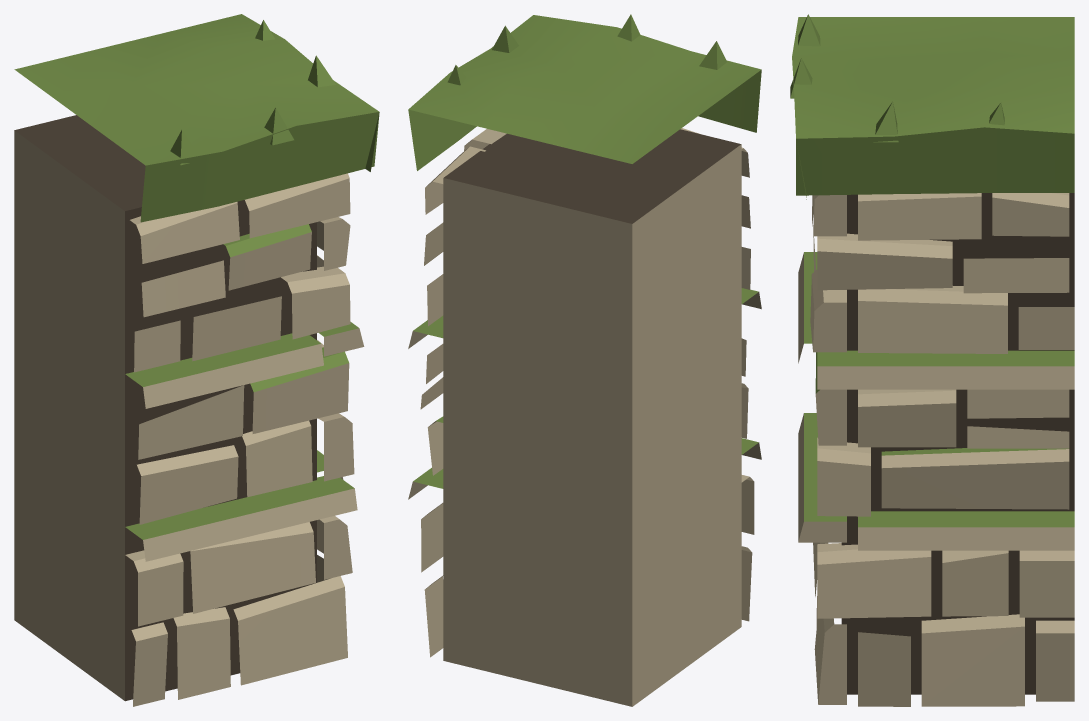
The model's file is grove-outer.glb.
The picture shows the model from 3 angles, left to right: view 1: azimuth 30°, elevation 25°; view 2: azimuth 150°, elevation 25°; view 3: azimuth 270°, elevation 25°; orthographic projection. The views are drawn at different scales.
Visible parts, largest first — view 1: grove-outer; view 2: grove-outer; view 3: grove-outer.
Part boxes in pixels (x1,y1,x2,y2): grove-outer: [14, 14, 379, 706]; grove-outer: [408, 14, 761, 706]; grove-outer: [790, 14, 1074, 706].
Size of the model in its own units: 1.04 by 2.47 by 1.05.
